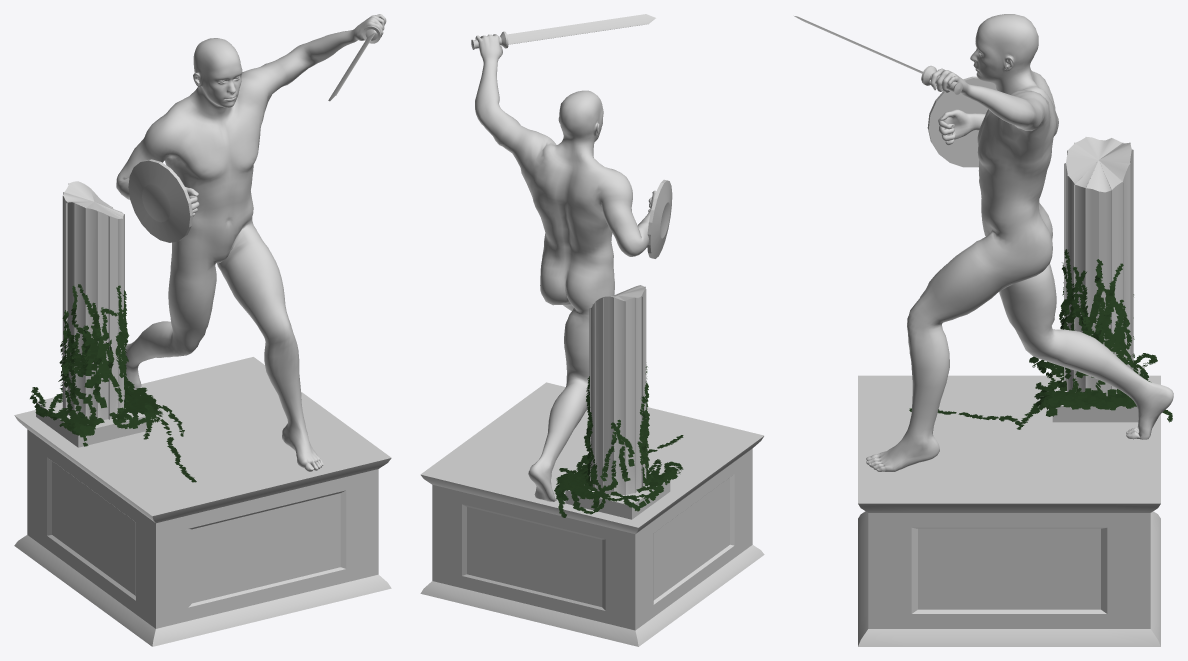
The model's file is teenage_statuefbx.fbx.
3 renders of one model, left to right at view 1: azimuth 30°, elevation 25°; view 2: azimuth 150°, elevation 25°; view 3: azimuth 270°, elevation 25°, orthographic. The views are drawn at different scales.
Parts seen in each view (by area): view 1: column, Desktop:HighPolyEyes, IvyLeaf; view 2: column, Desktop:HighPolyEyes, IvyLeaf; view 3: column, Desktop:HighPolyEyes, IvyLeaf.
Part boxes in pixels (<box>): column: <box>14,181,391,646</box>; Desktop:HighPolyEyes: <box>116,14,386,471</box>; IvyLeaf: <box>30,284,196,482</box>; column: <box>420,285,764,646</box>; Desktop:HighPolyEyes: <box>471,14,672,501</box>; IvyLeaf: <box>554,366,683,517</box>; column: <box>858,137,1160,646</box>; Desktop:HighPolyEyes: <box>794,14,1173,471</box>; IvyLeaf: <box>909,249,1172,429</box>.
Bounding box in the file's own units: 249 × 460 × 270.
